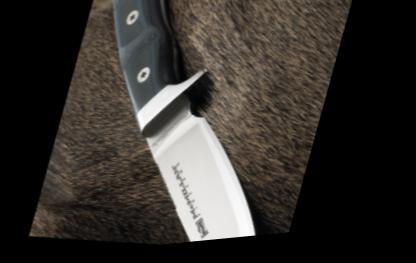knife: (115, 78, 322, 250)
